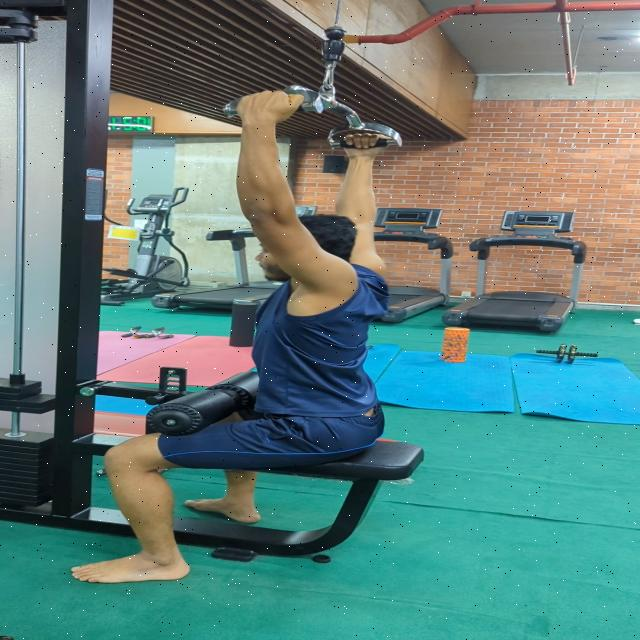Normal_LatPulldown: (44, 78, 418, 590)
